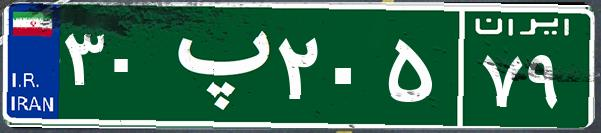0: (330, 28, 385, 110), (110, 28, 158, 105)
2: (273, 28, 330, 110)
3: (57, 26, 110, 107)
5: (385, 28, 445, 110)
7: (475, 38, 525, 113)
9: (525, 38, 570, 115)
پ: (158, 15, 273, 115)
